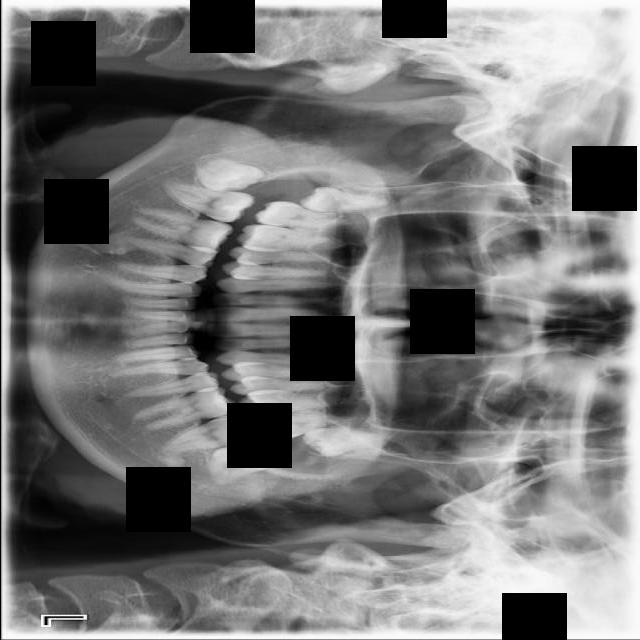3M ESPE Implant: (298, 185, 394, 215)
52: (203, 180, 260, 234)
73: (15, 622, 25, 630)
BioHorizons Implant: (254, 413, 362, 440)
BioLife Implant: (299, 427, 395, 458)
Biomet 3i Implant: (198, 430, 275, 492)
Blue Sky Bio Implant: (156, 412, 257, 457)
Caries: (252, 199, 358, 232)
Implant: (156, 177, 257, 228)
Keystone Dental Implant: (187, 150, 265, 202)
